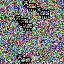sheep: (36, 6, 51, 19), (16, 52, 32, 64), (23, 0, 37, 11)
